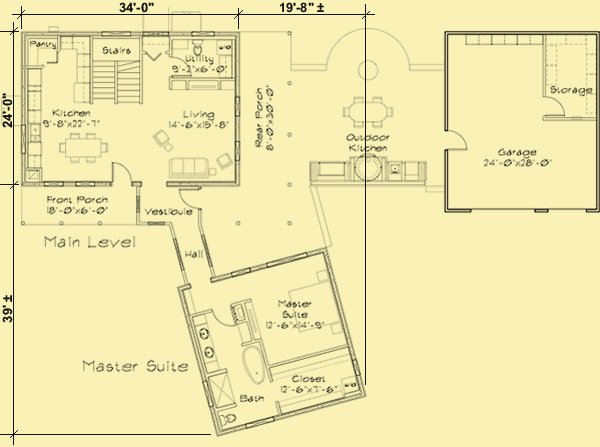dining table: (339, 92, 399, 130), (51, 129, 110, 165)
door: (440, 125, 471, 155), (173, 186, 205, 211), (109, 159, 135, 189), (210, 303, 239, 328), (541, 93, 565, 118)
large sink: (216, 412, 237, 430), (188, 39, 207, 56)
large sofa: (165, 153, 212, 181)
small sink: (192, 321, 217, 361)
small sofa: (150, 128, 170, 147), (214, 152, 233, 171)
stairs: (89, 34, 146, 109)
tub: (238, 345, 266, 386)
windows: (467, 205, 542, 217), (264, 251, 309, 270), (198, 232, 215, 271), (171, 235, 187, 275), (42, 178, 98, 189), (243, 415, 280, 431), (545, 207, 589, 218), (228, 266, 255, 281), (231, 92, 242, 118)
